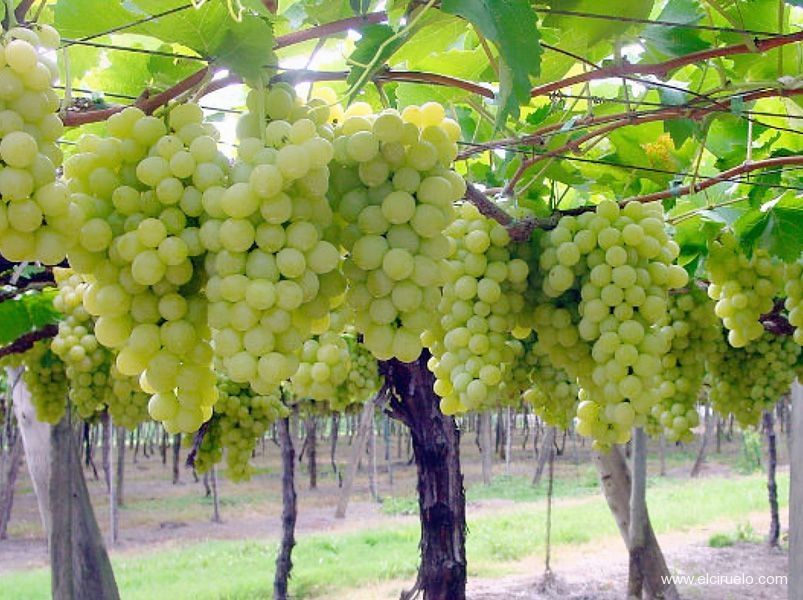Green grapes: (75, 97, 241, 437), (219, 87, 336, 389), (534, 201, 667, 451), (324, 105, 453, 359), (437, 194, 524, 424), (1, 25, 78, 271), (649, 268, 714, 451), (704, 232, 785, 352)
